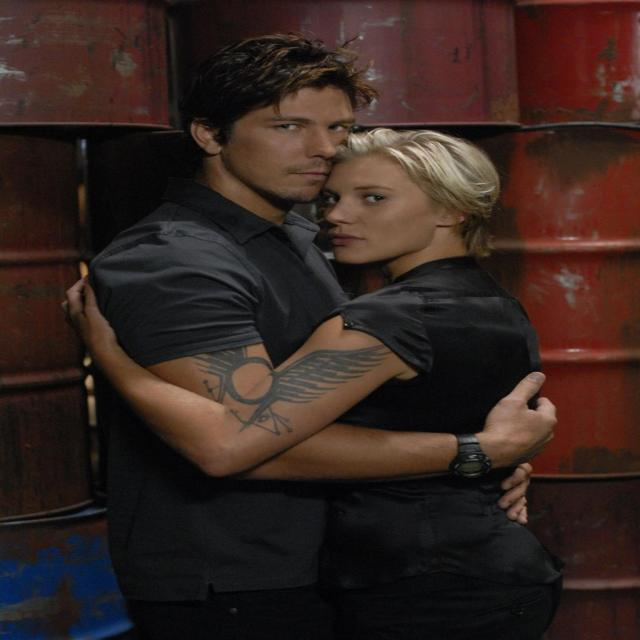Face: (325, 149, 436, 271), (248, 79, 351, 205)
